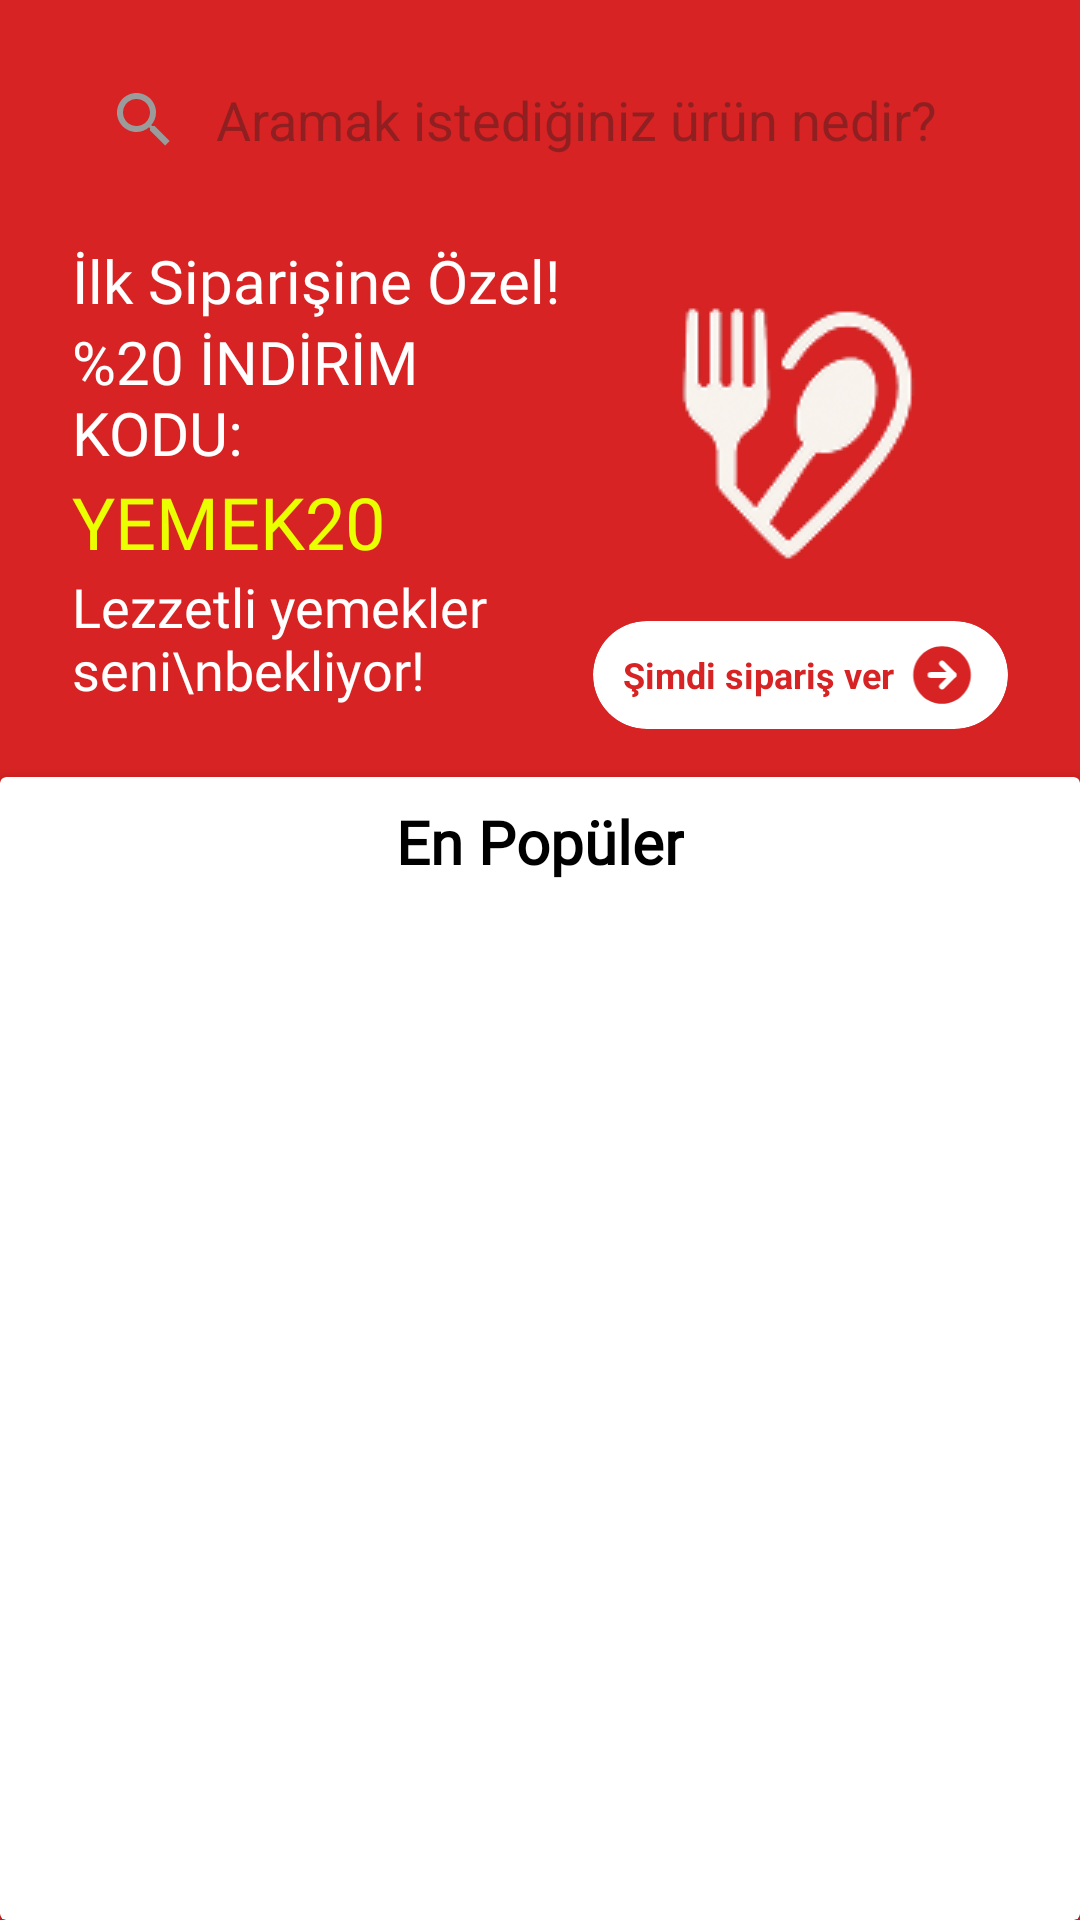

Where to tap for icons on this 1080*1920 app screen, as (x,y):
food: (797,433)
